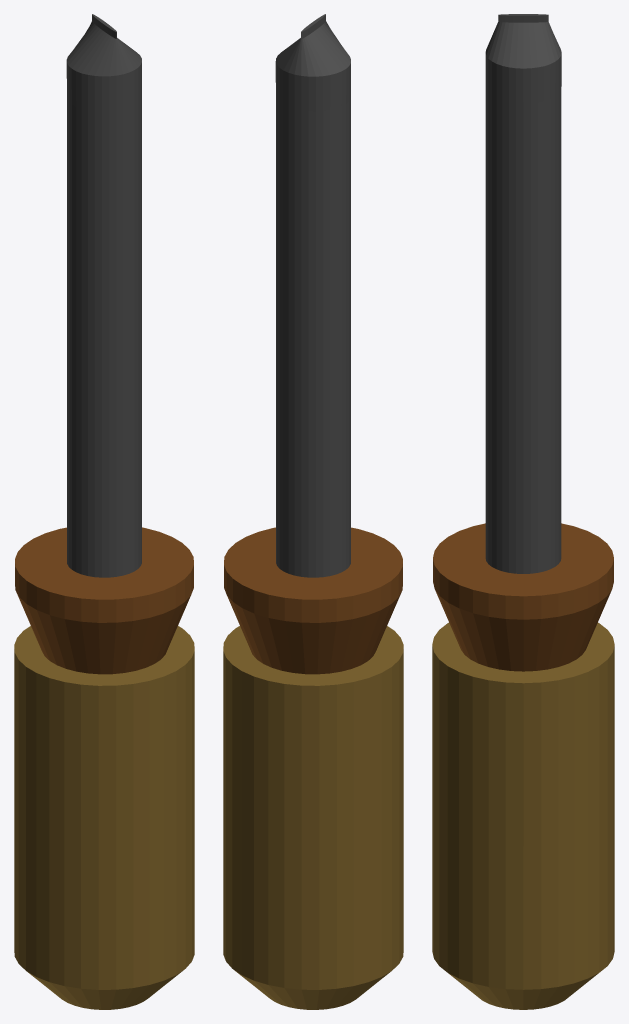
The model's file is obengMin.fbx.
The picture shows the model from 3 angles, left to right: view 1: azimuth 30°, elevation 25°; view 2: azimuth 150°, elevation 25°; view 3: azimuth 270°, elevation 25°; orthographic projection.
Visible parts, largest first — view 1: ObengMin; view 2: ObengMin; view 3: ObengMin.
Boxes of the visible parts, x1=… form: ObengMin: x1=14, y1=14, x2=194, y2=1009; ObengMin: x1=223, y1=14, x2=403, y2=1009; ObengMin: x1=432, y1=14, x2=614, y2=1009.
Size of the model in its own units: 2.48 by 14.6 by 2.48.
